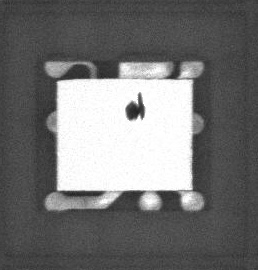DIE_INK: (119, 96, 139, 127)
